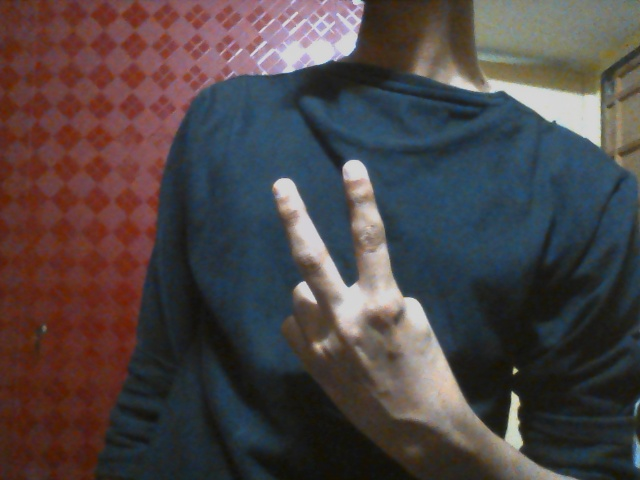V: (272, 158, 463, 431)
